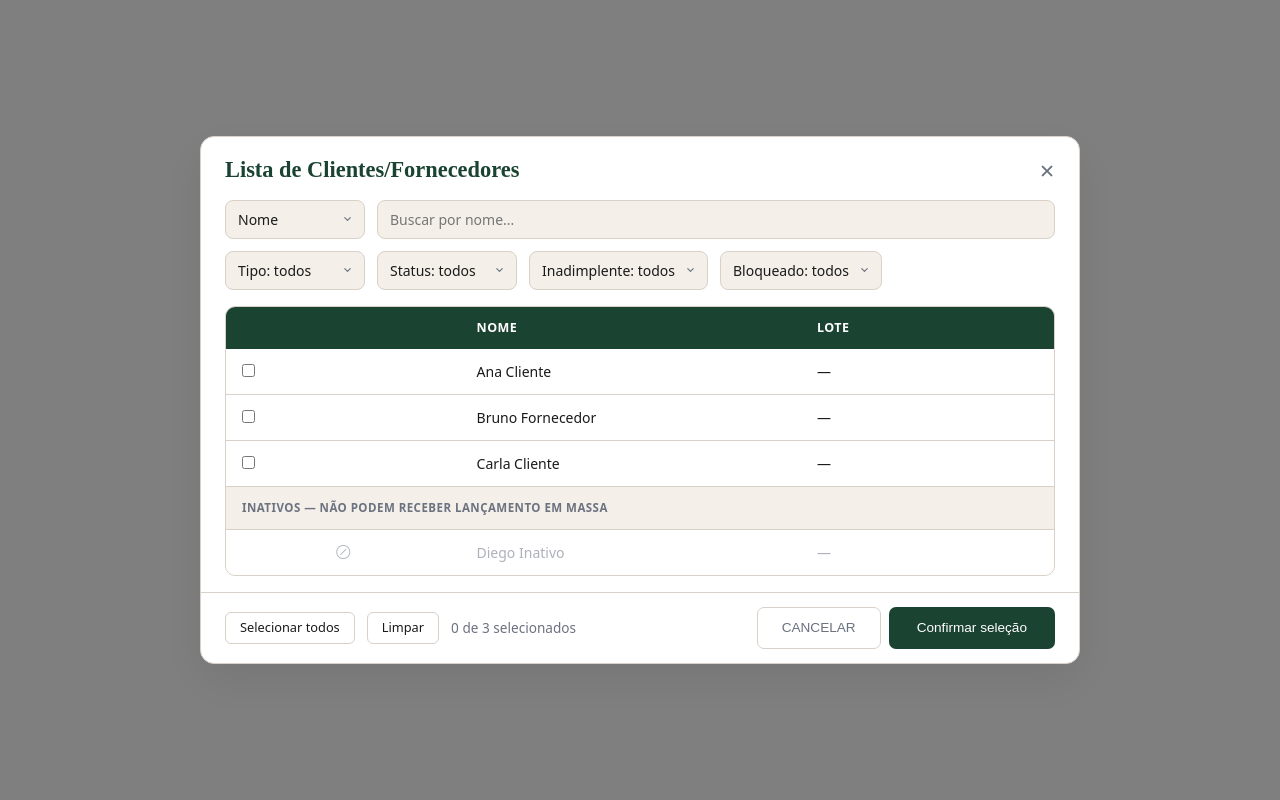
Test: MassaCliforSeletorModal — filtro + ações em massa › "Limpar" desmarca só o que está no filtro atual
The image size is (1280, 800).
Check: the text "Ana Cliente" is shown, box [460,350,801,395]
Click the button "Selecionar todos". click: (290, 628)
box: [225,612,355,644]
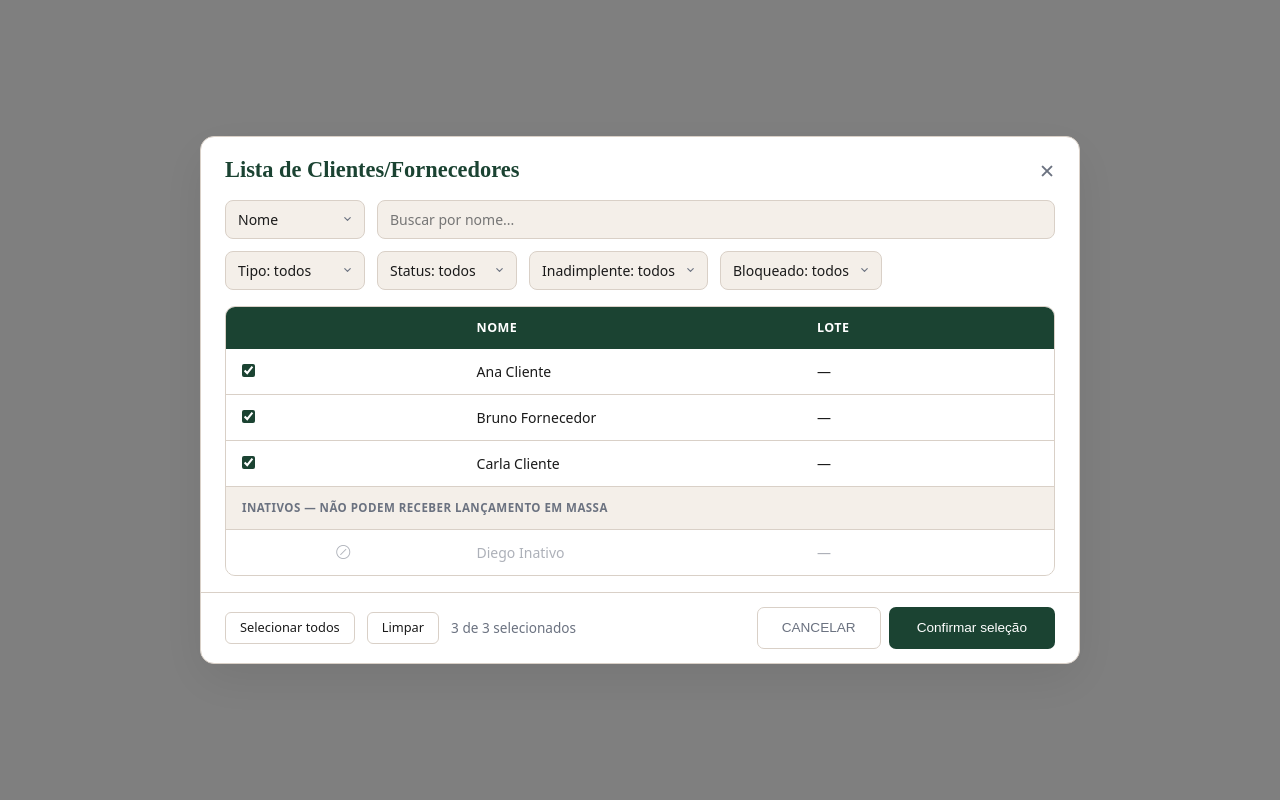
Check: the text "3 de 3 selecionados" is shown, box [451,618,576,638]
# filtra por "Carla" e limpa → some só a Carla, sobram 2 marcados no total
Type "Carla" into the field with placeholder "Buscar por nome...". click: (716, 219)
box: [377,200,1055,239]
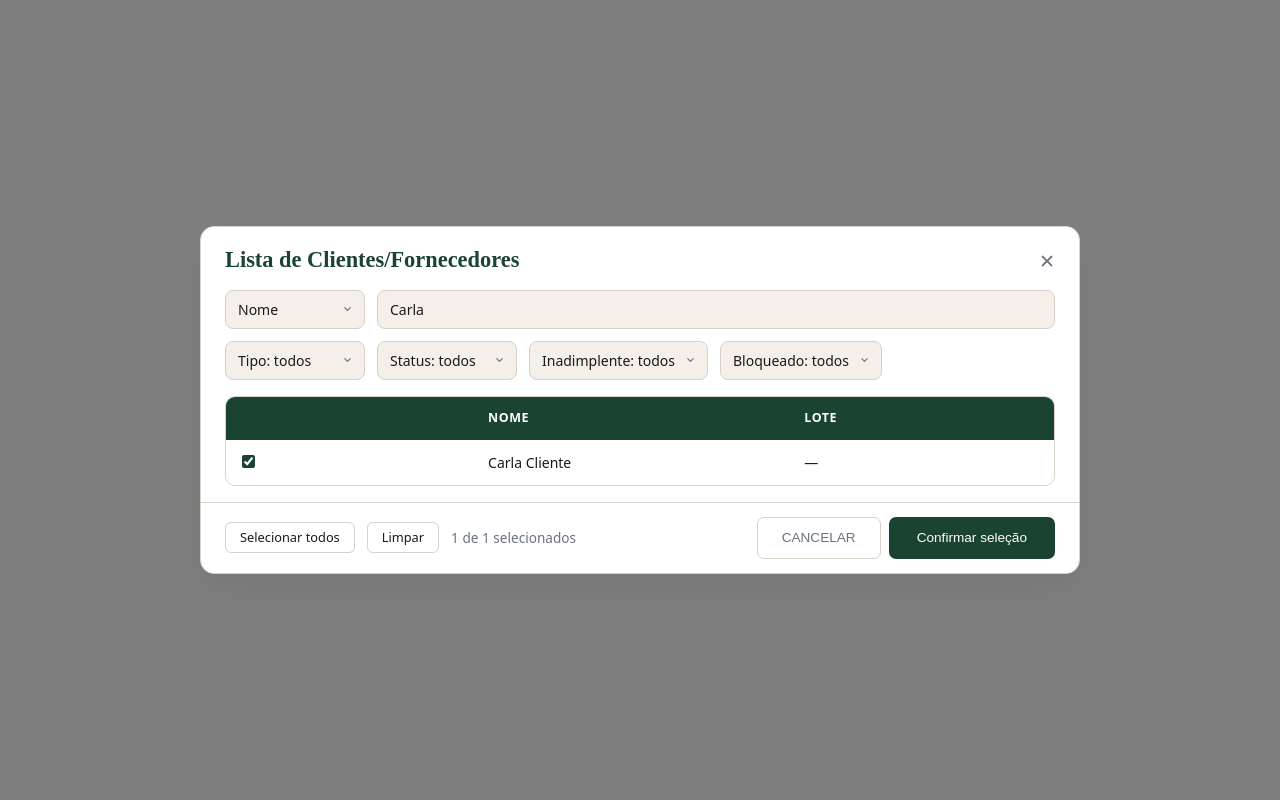
Click the button "Limpar". click: (403, 538)
box: [367,522,439,553]
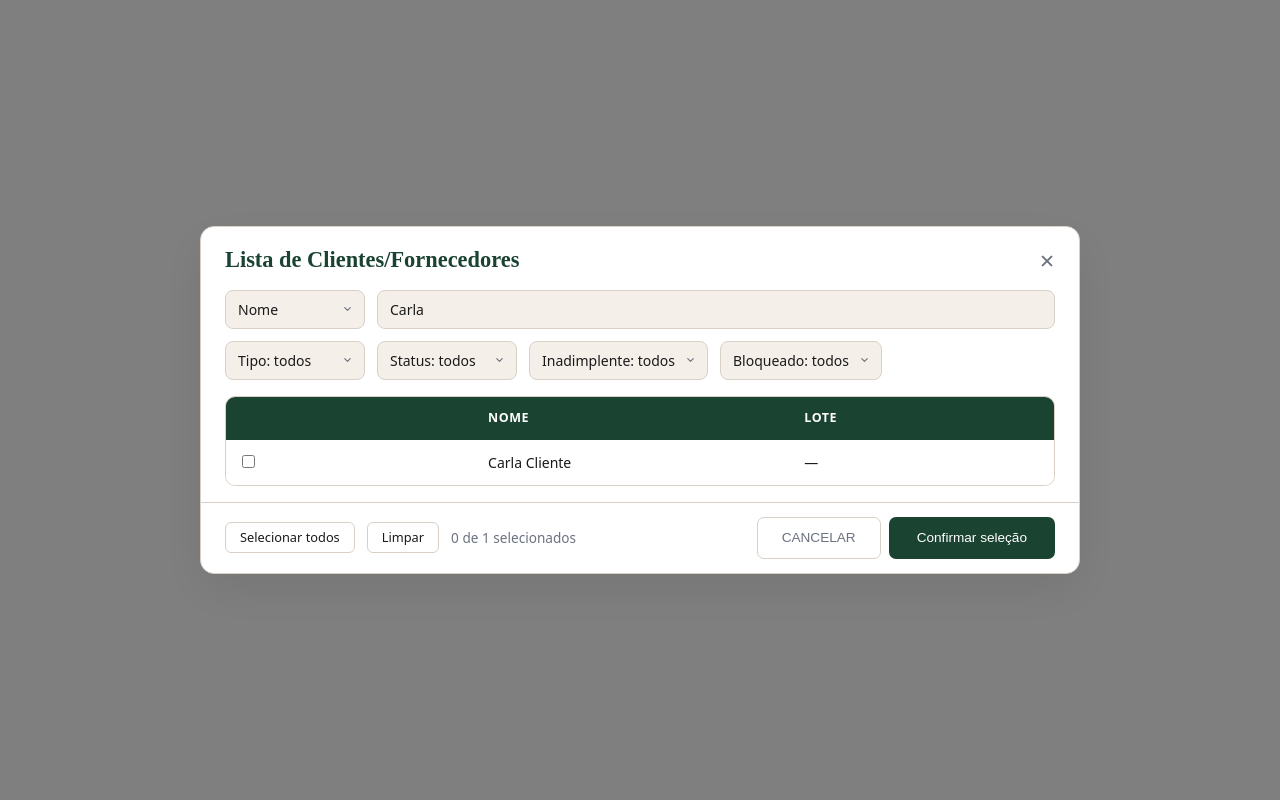
Check: the text "0 de 1 selecionados" is shown, box [451,528,576,548]
Clear the field with placeholder "Buscar por nome...". click: (716, 309)
box: [377,290,1055,329]
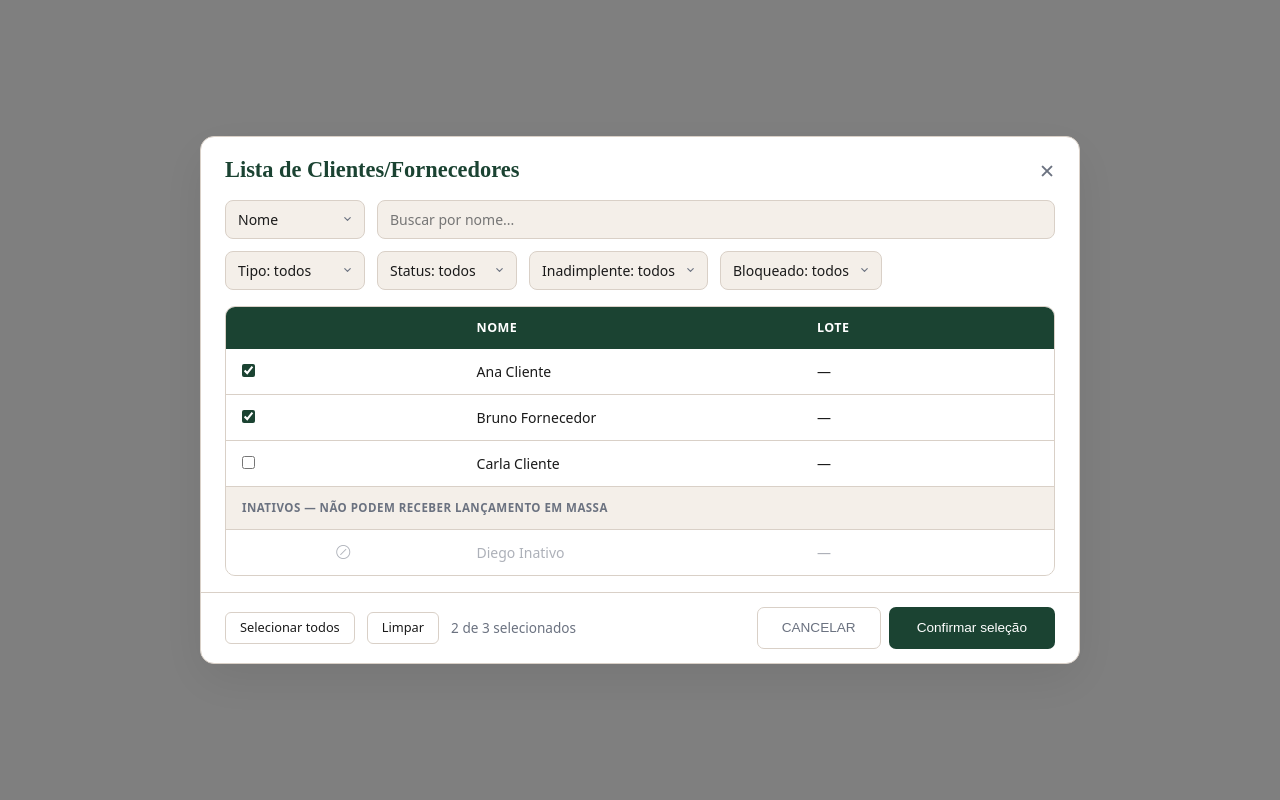
Check: the text "2 de 3 selecionados" is shown, box [451,618,576,638]
